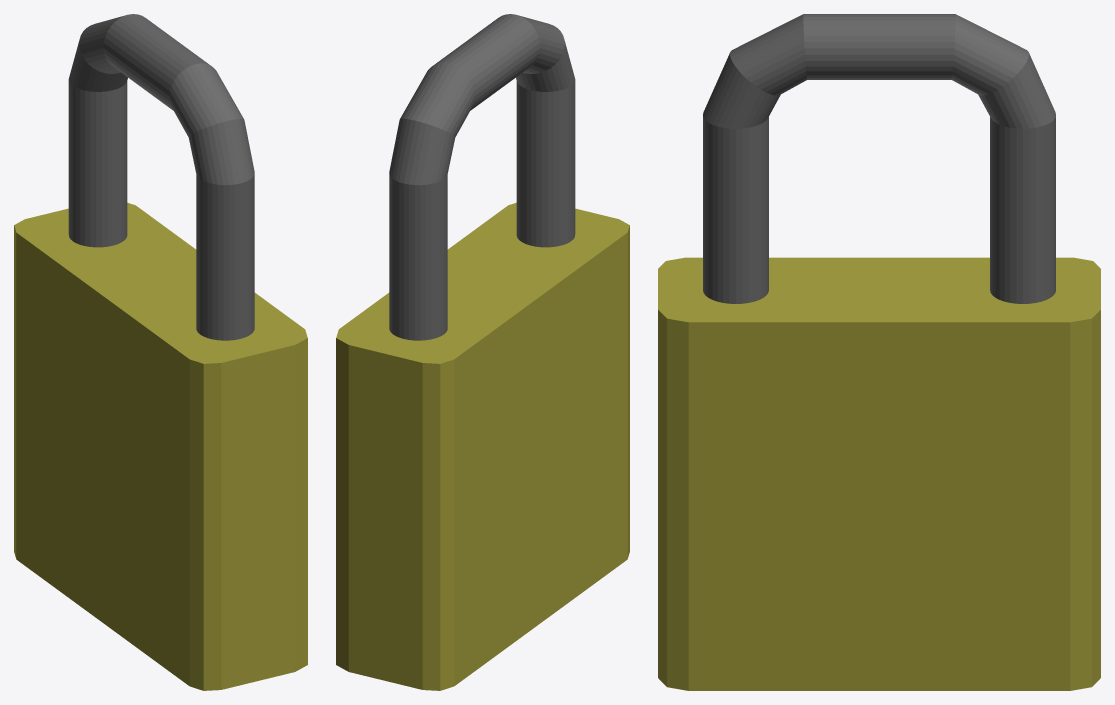
File: candado.fbx
3 renders of one model, left to right at view 1: azimuth 30°, elevation 25°; view 2: azimuth 150°, elevation 25°; view 3: azimuth 270°, elevation 25°, orthographic. The views are drawn at different scales.
Parts seen in each view (by area): view 1: Cube; view 2: Cube; view 3: Cube.
Part boxes in pixels (left/top/right/bottom): Cube: left=14, top=14, right=307, bottom=690; Cube: left=336, top=14, right=629, bottom=690; Cube: left=658, top=14, right=1100, bottom=690.
Bounding box in the file's own units: 75.14 × 348 × 218.
